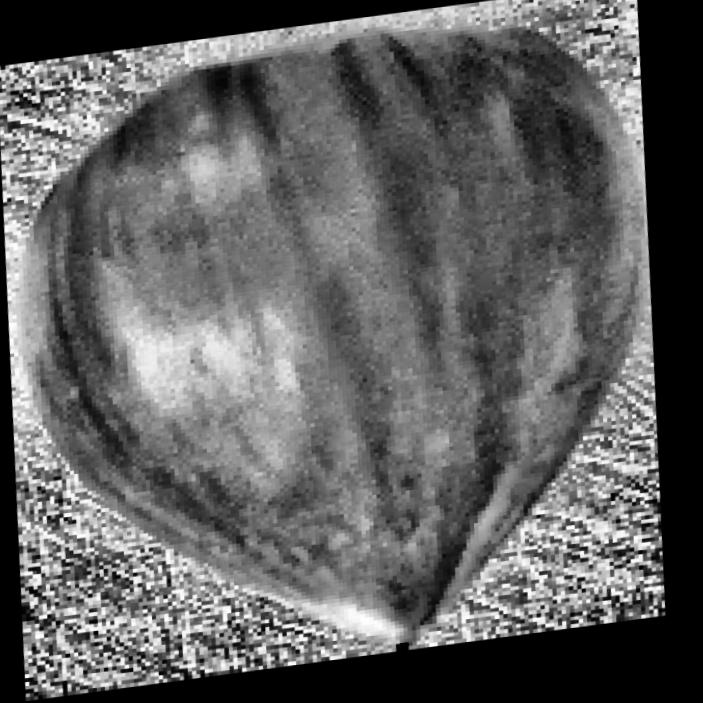qualityHazelnut: (0, 0, 703, 703)
